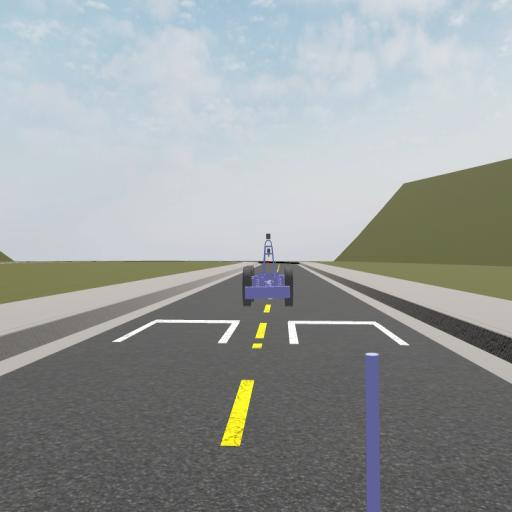ERP-42: (242, 234, 293, 305)
